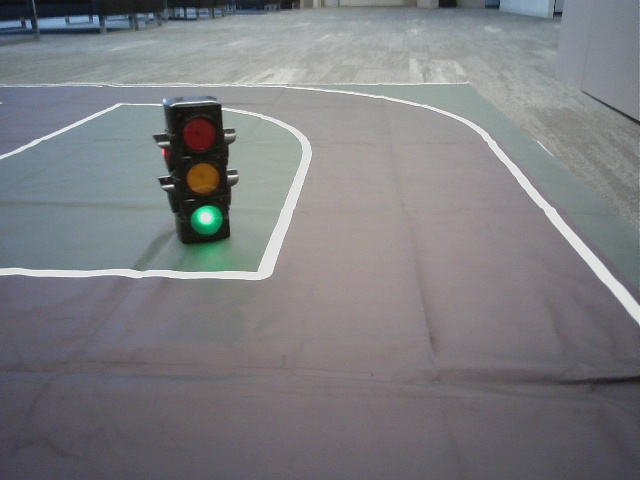green: (174, 110, 226, 237)
